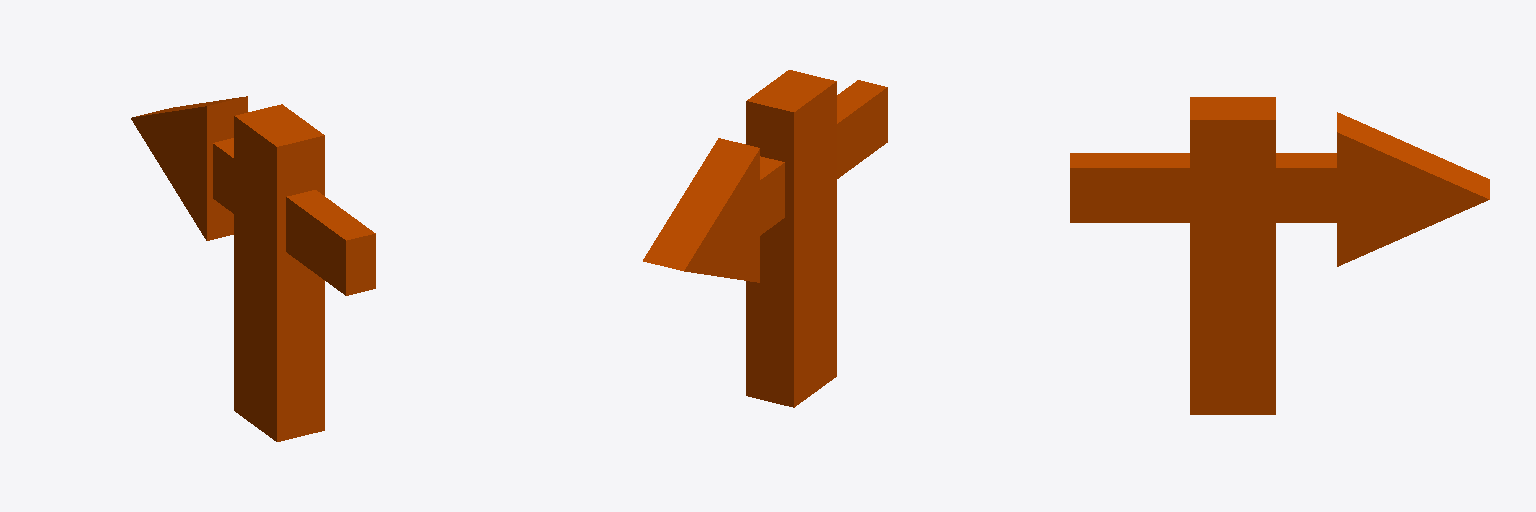
File: arrow.obj
3 views of the same model, side by side, from view 1: azimuth 30°, elevation 25°; view 2: azimuth 150°, elevation 25°; view 3: azimuth 270°, elevation 25° (orthographic).
Visible parts, largest first — view 1: Cube, Cube.001, Cylinder; view 2: Cube, Cylinder, Cube.001; view 3: Cube, Cylinder, Cube.001.
Boxes of the visible parts, box(x1,y1,x2,y2) form: Cube: box(234, 104, 324, 441); Cube.001: box(213, 138, 375, 295); Cylinder: box(131, 96, 247, 240); Cube: box(746, 70, 836, 407); Cylinder: box(643, 138, 759, 282); Cube.001: box(760, 80, 887, 235); Cube: box(1190, 97, 1275, 414); Cylinder: box(1337, 112, 1489, 266); Cube.001: box(1070, 153, 1336, 222).
Size of the model in its own units: 0.2687 by 1.59 by 2.04.